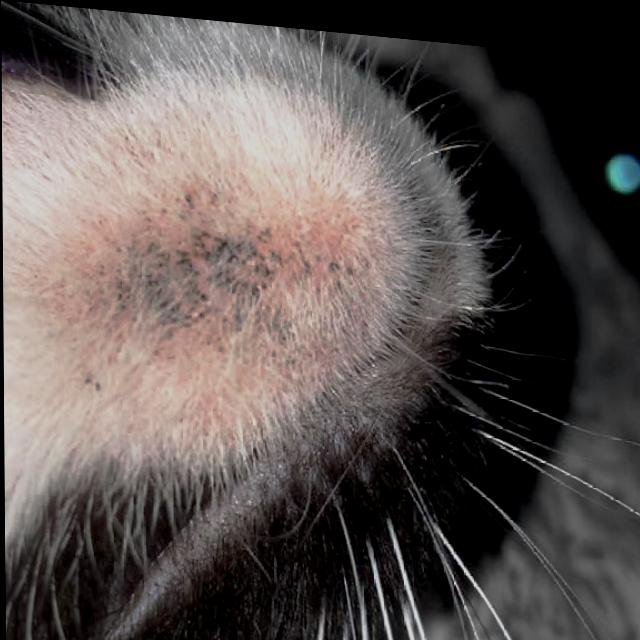acne: (82, 197, 358, 459)
